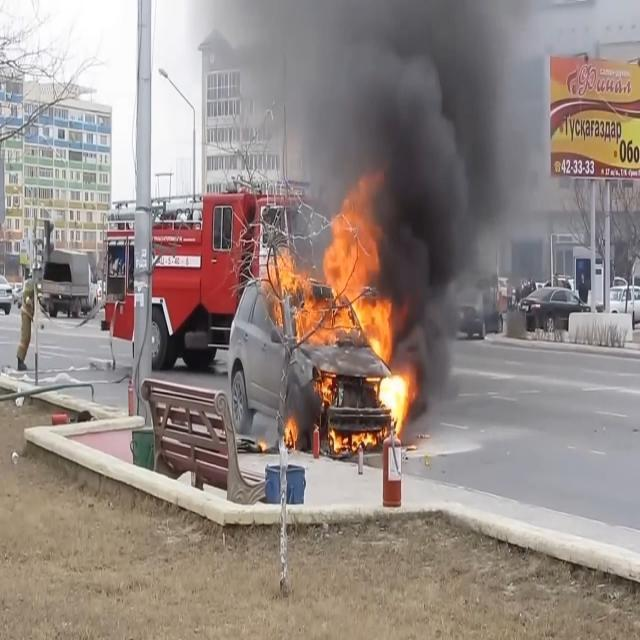fire: (266, 164, 418, 468)
